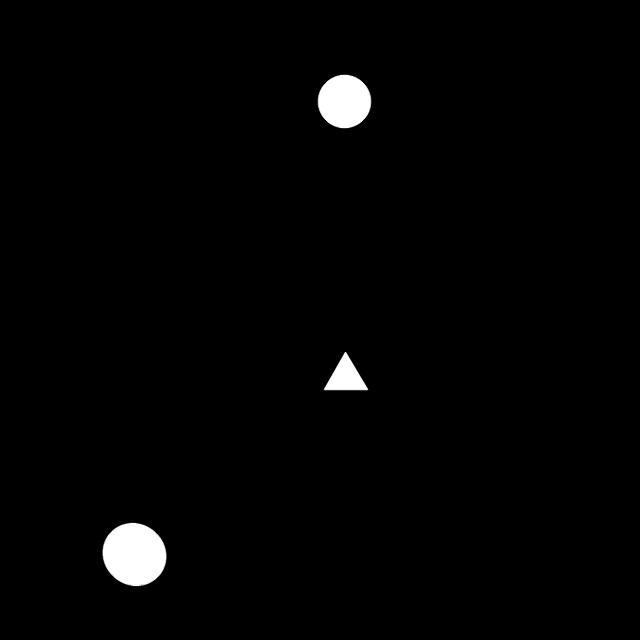Circle: (92, 515, 179, 601), (308, 67, 377, 137)
Triangle: (314, 344, 376, 412)
